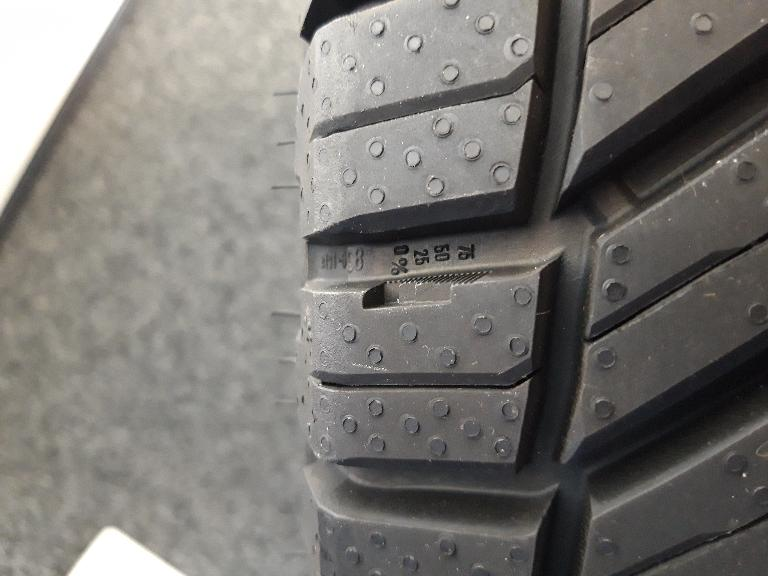temoin:100: (359, 267, 480, 312)
